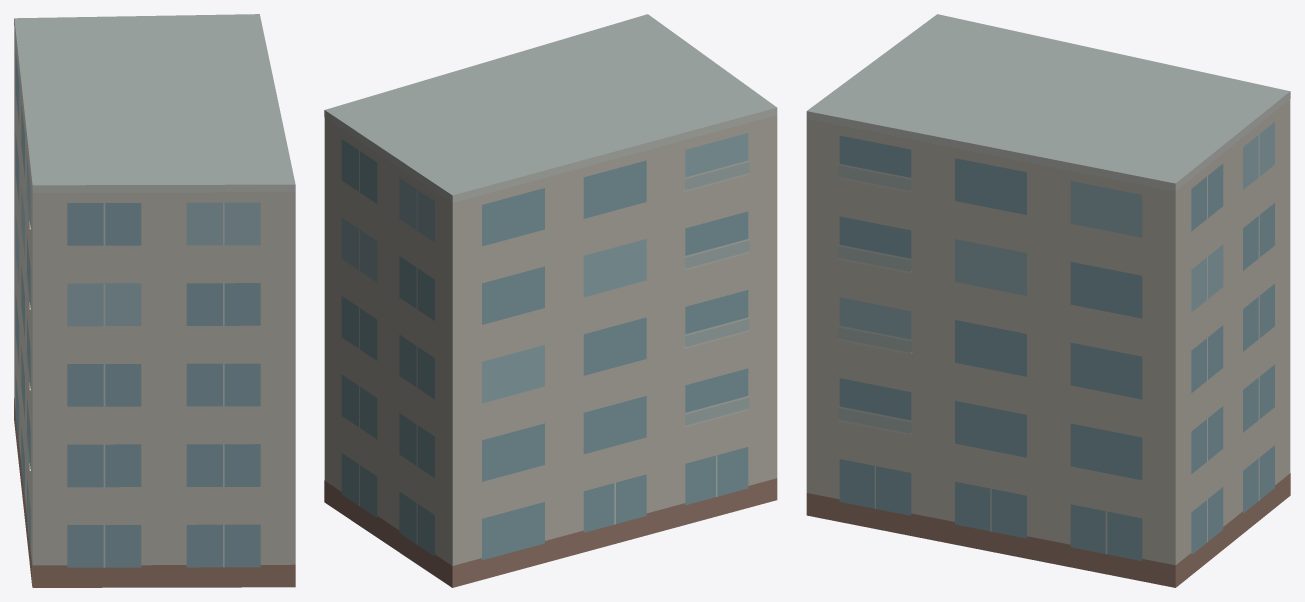
Rendered from survey-upis-32733899.glb.
The picture shows the model from 3 angles, left to right: view 1: azimuth 30°, elevation 25°; view 2: azimuth 150°, elevation 25°; view 3: azimuth 270°, elevation 25°; orthographic projection. The views are drawn at different scales.
Visible parts, largest first — view 1: survey-upis-32733899.tmp; view 2: survey-upis-32733899.tmp; view 3: survey-upis-32733899.tmp.
Boxes of the visible parts, x1,y1,x2,y2 form: survey-upis-32733899.tmp: (14,14,295,587); survey-upis-32733899.tmp: (324,14,777,587); survey-upis-32733899.tmp: (806,14,1290,587).
Bounding box in the file's own units: 11.52 × 12.8 × 13.89.
